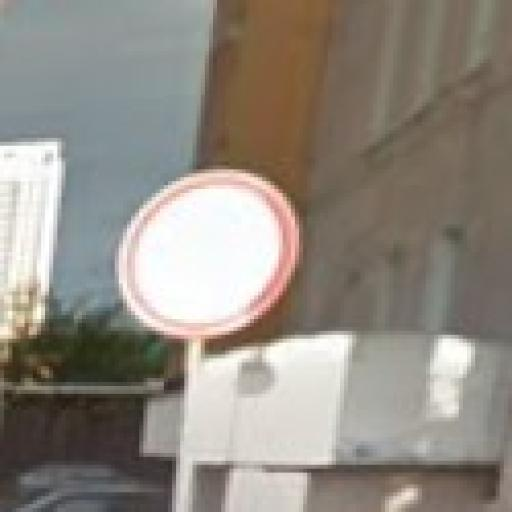traffic_sign: (116, 170, 300, 344)
